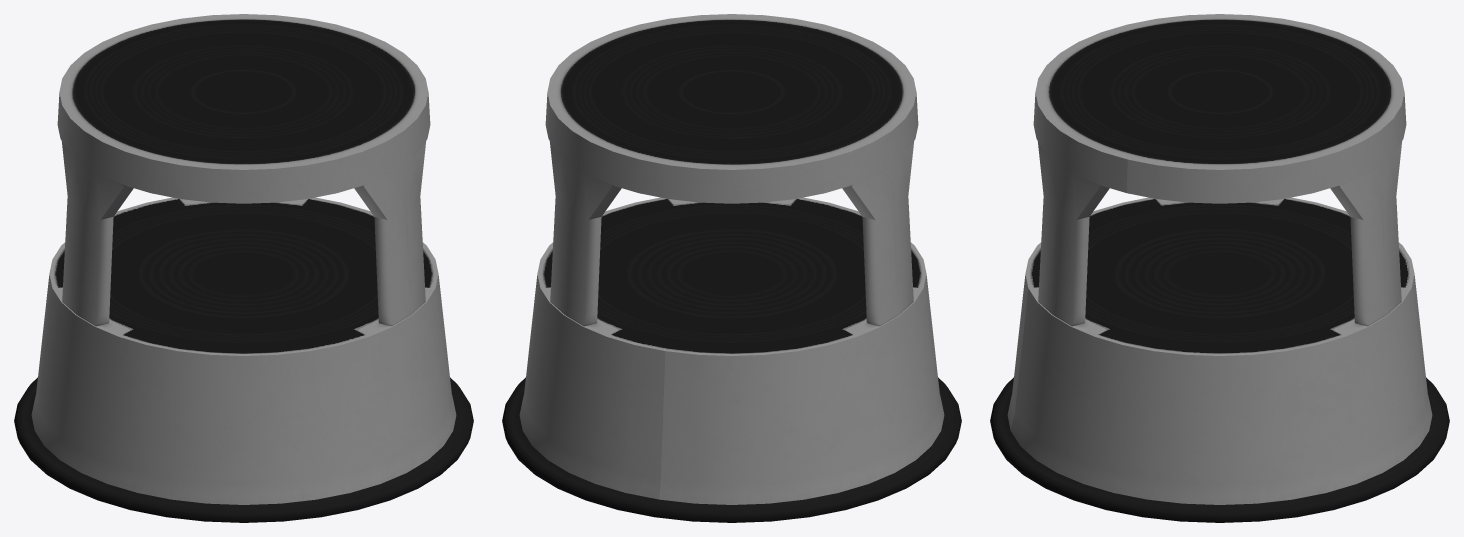
File: SM_RollingStool.fbx
The picture shows the model from 3 angles, left to right: view 1: azimuth 30°, elevation 25°; view 2: azimuth 150°, elevation 25°; view 3: azimuth 270°, elevation 25°; orthographic projection.
Visible parts, largest first — view 1: SM_RollingStool_LOD0; view 2: SM_RollingStool_LOD0; view 3: SM_RollingStool_LOD0.
Part boxes in pixels (box(x1,y1,x2,y2)): SM_RollingStool_LOD0: box(14, 14, 473, 522); SM_RollingStool_LOD0: box(502, 14, 961, 522); SM_RollingStool_LOD0: box(990, 14, 1449, 522).
Size of the model in its own units: 74.75 by 74.75 by 60.06.
1 material, 1 textured.
